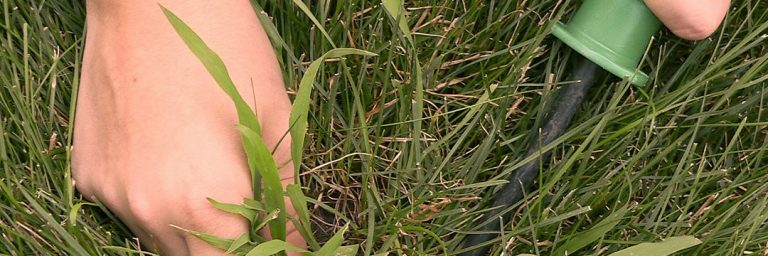crabgrass: (161, 7, 347, 256)
